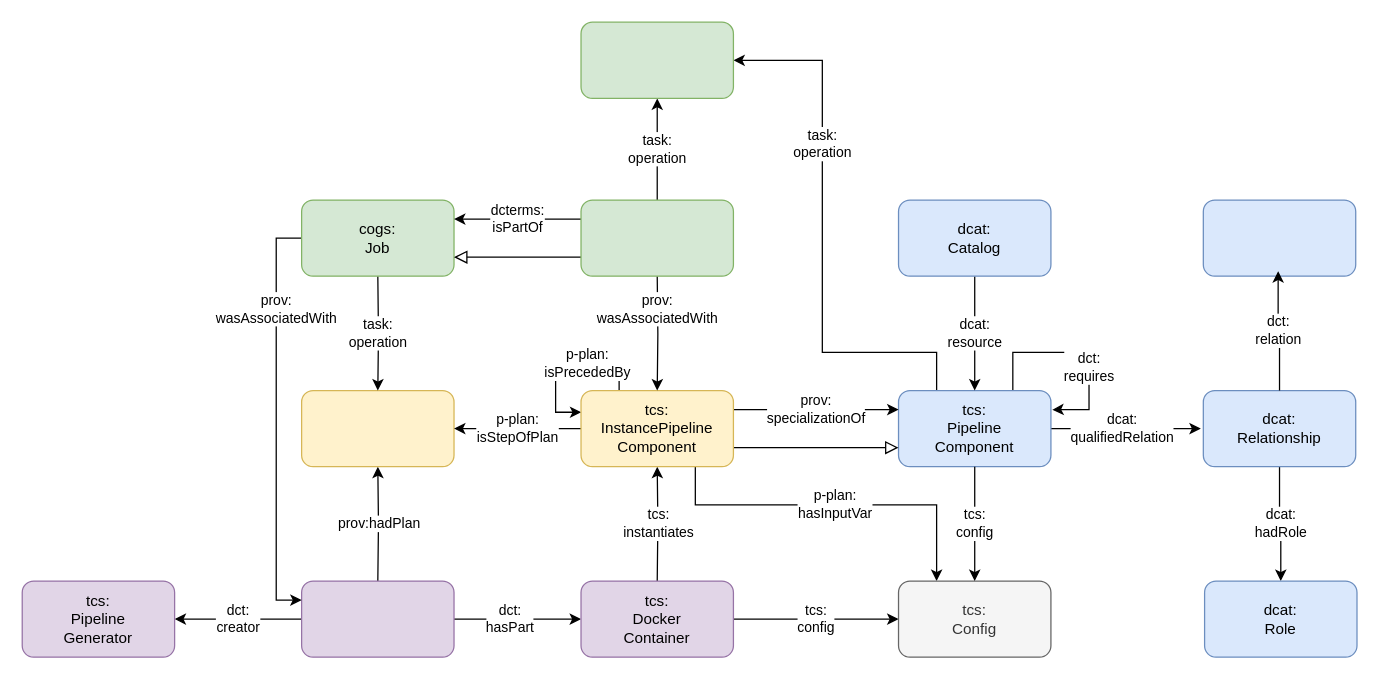
The diagram is 1379 pixels wide and 679 high, and some of its shapes have lost their labels. The centre of each missing label's shape, as x and y in pixels:
"sh: NodeShape" goes at point 1279,237.
"skos: Concept" goes at point 656,59.
"task: Task" goes at point 656,237.
"tcs: Pipeline Build" goes at point 377,618.
"tcs: Pipeline Definition" goes at point 377,428.
